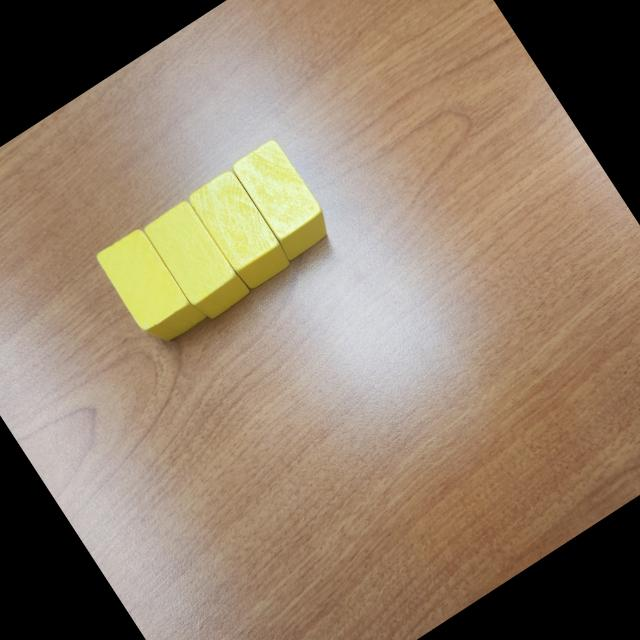yellow: (94, 222, 208, 351), (140, 194, 252, 324), (184, 165, 294, 294), (226, 134, 336, 262)
